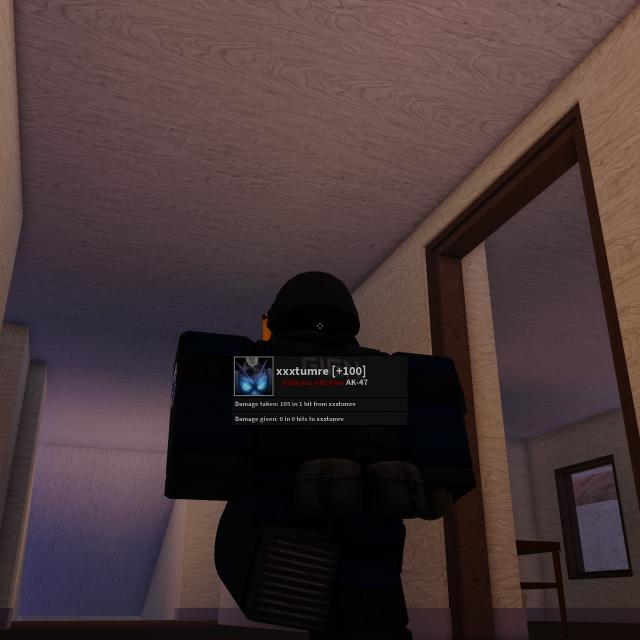Head: (264, 271, 360, 355)
Player: (165, 271, 475, 638)
